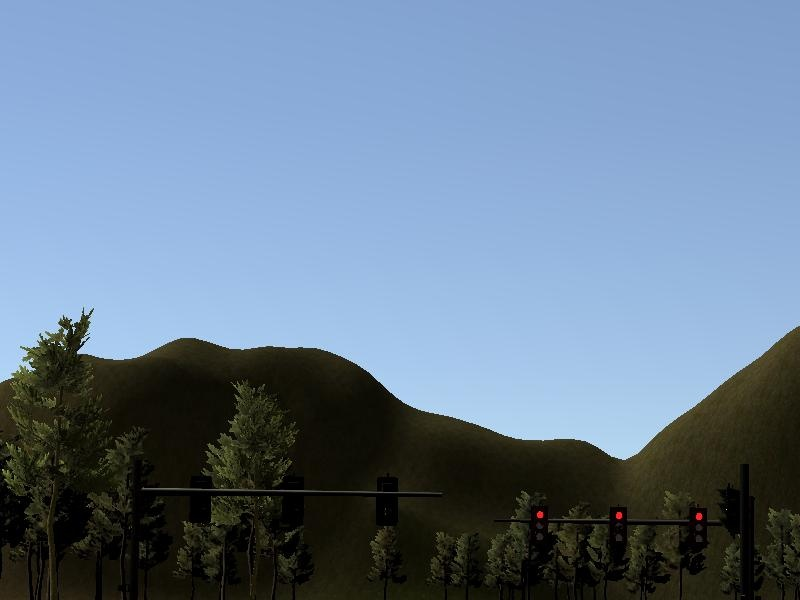RED: (606, 501, 634, 570), (685, 502, 713, 561), (526, 507, 552, 561)
